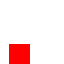square: (9, 44, 29, 64)
